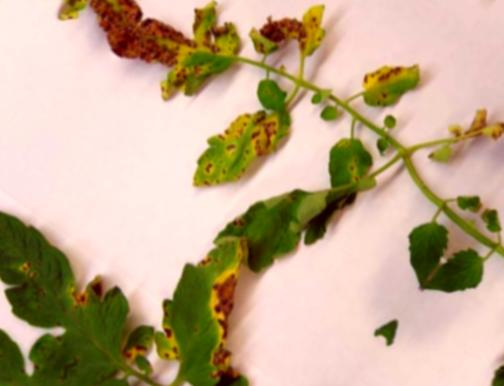Tomato Septoria leaf spot: (116, 212, 313, 386), (170, 78, 299, 216), (108, 0, 251, 122), (350, 35, 445, 132), (304, 128, 392, 215), (278, 0, 348, 63)
